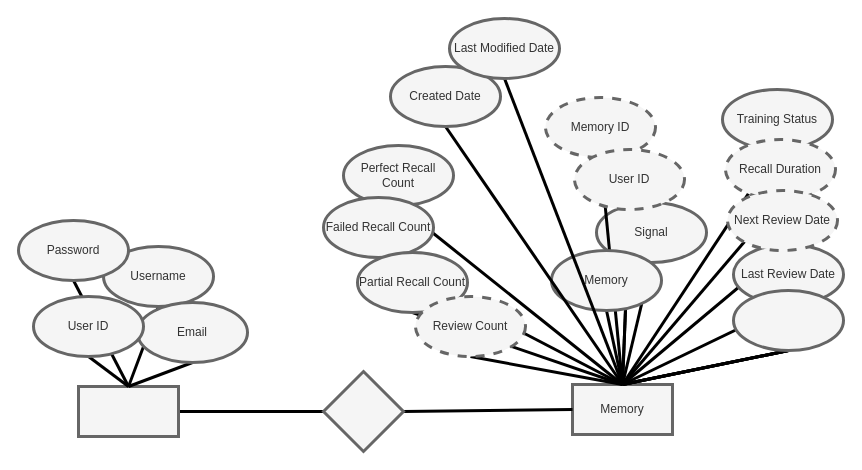
This 862x470 diagram has some shape labels left out. Here are the shapes that lost their labels. From the top down, the box of each, then its label:
(732, 288, 844, 352): Last Review Result
(76, 384, 180, 438): User
(322, 370, 404, 452): Has
